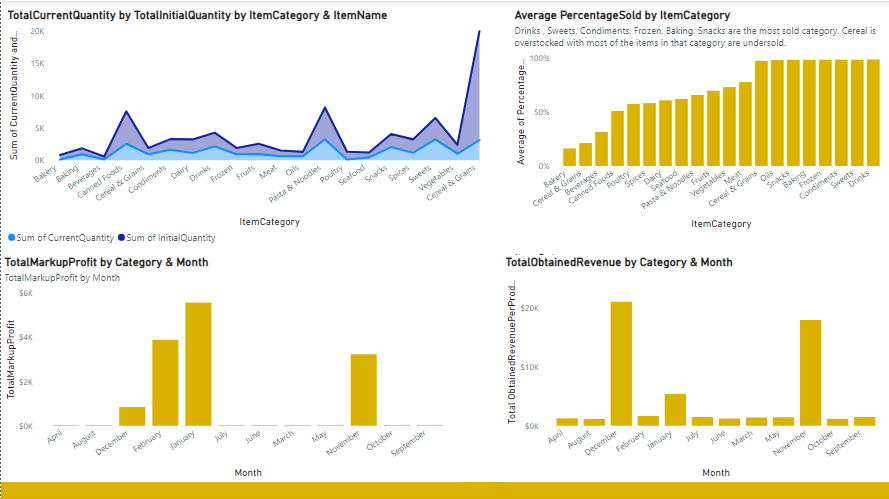

What the dashboard file says about the page in this screenshot:
{"tool":"powerbi","page":{"name":"Page 3","canvas":[1280,720],"ordinal":2},"visuals":[{"type":"stackedAreaChart","title":"TotalCurrentQuantity by TotalInitialQuantity by ItemCategory & ItemName","fields":{"Category":["CleanData.ItemCategory","CleanData.ItemName"],"Y":["Sum(CleanData.CurrentQuantity)","Sum(CleanData.InitialQuantity)"]},"box":[4.6,10.8,702.4,349.7],"z":0},{"type":"clusteredColumnChart","title":"Average PercentageSold by ItemCategory","fields":{"Y":["Avg(CleanData.PercentageSold)"],"Category":["CleanData.ItemCategory","CleanData.ItemName"]},"box":[734.7,10.8,545.3,323.5],"z":1000},{"type":"stackedAreaChart","fields":{"Category":["CleanData.ItemCategory"]},"box":[734.7,360.4,545.3,332.7],"z":2000},{"type":"shape","box":[0,693.1,1280,26.2],"z":3000},{"type":"clusteredColumnChart","title":"TotalMarkupProfit by Category & Month","fields":{"Y":["CleanData.TotalMarkupProfit"],"Category":["CleanData.Month","CleanData.ItemCategory"]},"box":[0,365.8,661,326.9],"z":4000},{"type":"clusteredColumnChart","title":"TotalObtainedRevenue by Category & Month","fields":{"Category":["CleanData.Month","CleanData.ItemCategory"],"Y":["CleanData.Total ObtainedRevenuePerProduct"]},"box":[721.4,365.8,558.7,326.9],"z":5000}]}

Visuals, with their boxes in screenshot pixels (x1, y1, x2, y2), scaled from the page's 1280x720 canvas onto the 889x499 screenshot:
"TotalCurrentQuantity by TotalInitialQuantity by ItemCategory & ItemName" stackedAreaChart: box=[3, 7, 491, 250]
"Average PercentageSold by ItemCategory" clusteredColumnChart: box=[510, 7, 888, 232]
stackedAreaChart - CleanData.ItemCategory: box=[510, 250, 888, 480]
shape: box=[0, 480, 888, 498]
"TotalMarkupProfit by Category & Month" clusteredColumnChart: box=[0, 254, 459, 480]
"TotalObtainedRevenue by Category & Month" clusteredColumnChart: box=[501, 254, 888, 480]
